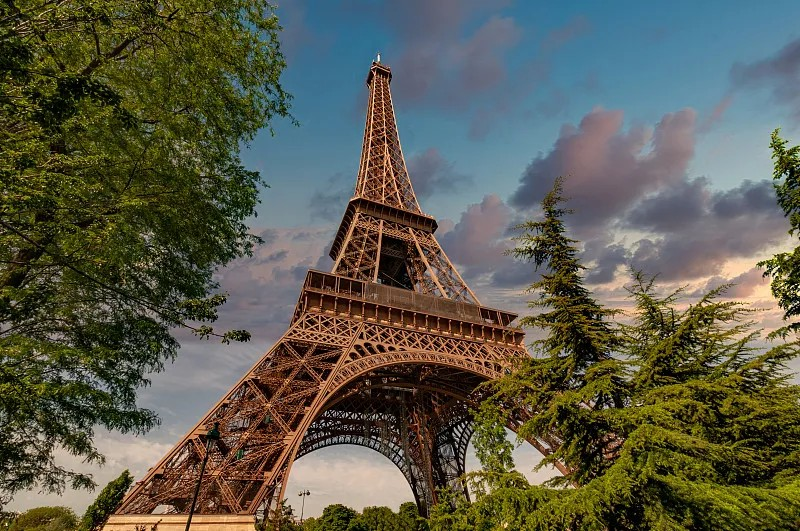Eiffel: (99, 51, 625, 531)
